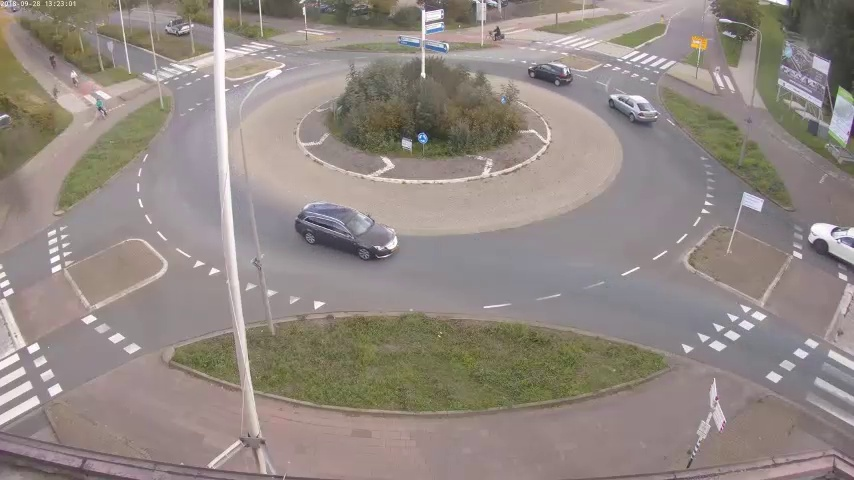car: (295, 200, 398, 261), (810, 219, 854, 268), (607, 87, 662, 124), (526, 62, 572, 89), (162, 16, 194, 36)
